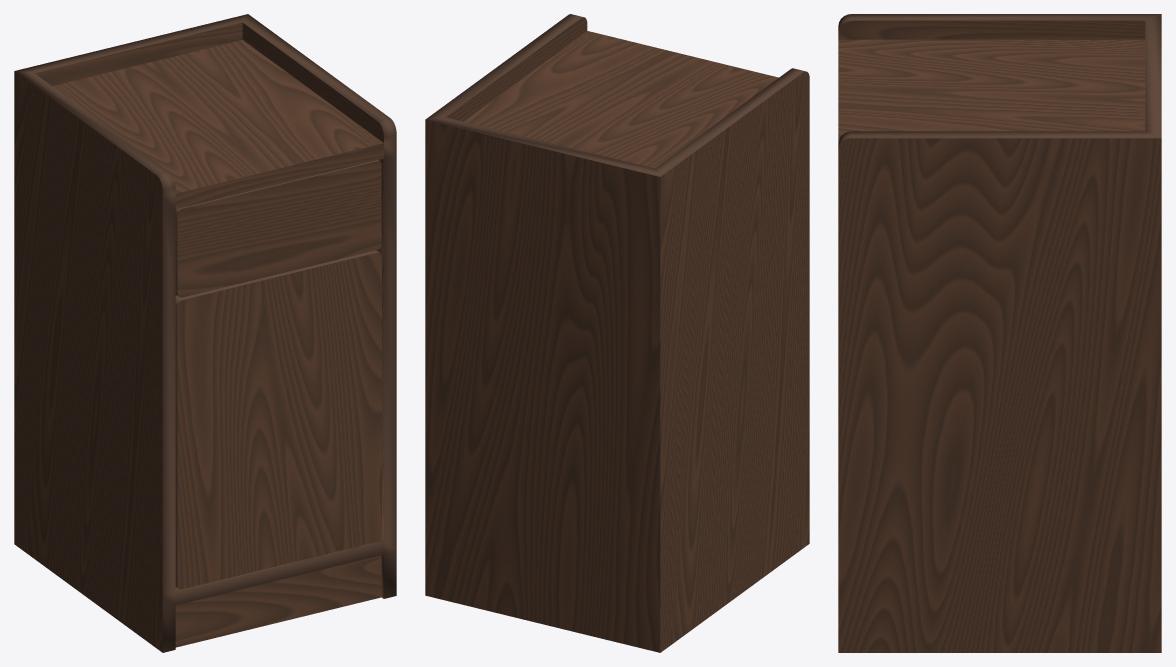
The model's file is Nightstand.fbx.
3 views of the same model, side by side, from view 1: azimuth 30°, elevation 25°; view 2: azimuth 150°, elevation 25°; view 3: azimuth 270°, elevation 25° (orthographic). The views are drawn at different scales.
Visible parts, largest first — view 1: Nightstand; view 2: Nightstand; view 3: Nightstand.
Part boxes in pixels (<box>): Nightstand: <box>14,14,396,652</box>; Nightstand: <box>425,14,809,652</box>; Nightstand: <box>838,14,1161,652</box>.
Bounding box in the file's own units: 38.1 × 73.66 × 41.91.
